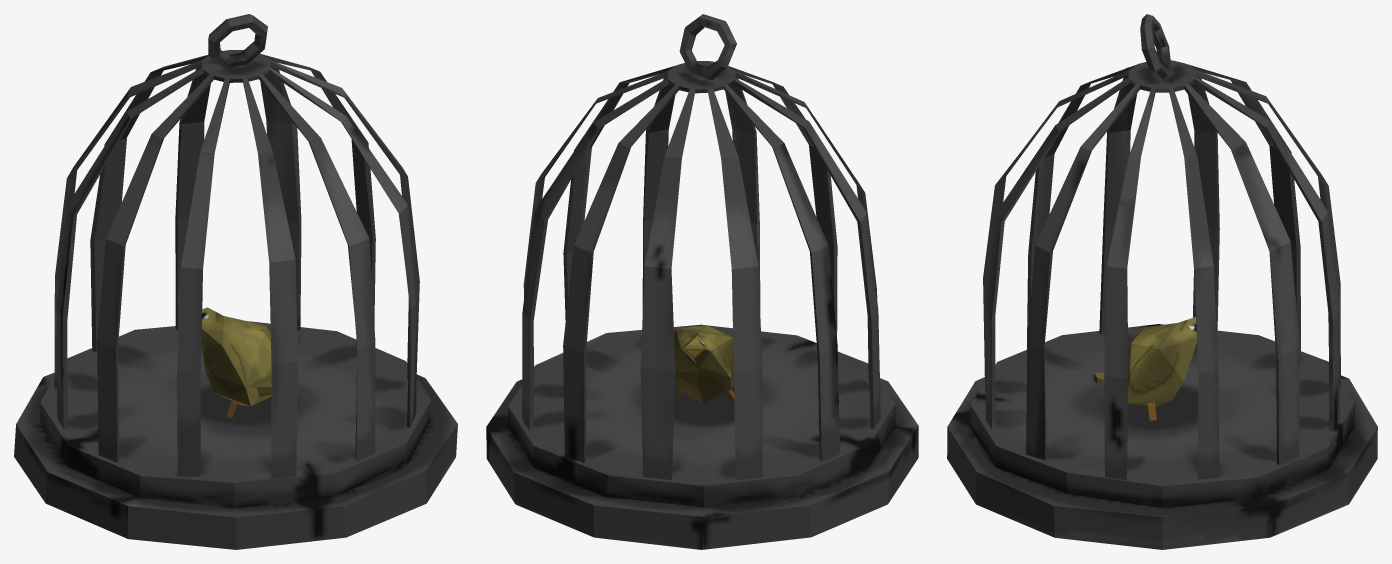
File: Cage.fbx
The picture shows the model from 3 angles, left to right: view 1: azimuth 30°, elevation 25°; view 2: azimuth 150°, elevation 25°; view 3: azimuth 270°, elevation 25°; orthographic projection. The views are drawn at different scales.
Parts seen in each view (by area): view 1: Cage, Bird; view 2: Cage, Bird; view 3: Cage, Bird.
Boxes of the visible parts, left/top/right/bottom form: Cage: left=14, top=14, right=457, bottom=549; Bird: left=201, top=307, right=271, bottom=417; Cage: left=486, top=14, right=918, bottom=549; Bird: left=674, top=326, right=734, bottom=402; Cage: left=947, top=14, right=1377, bottom=549; Bird: left=1093, top=317, right=1217, bottom=420.
Size of the model in its own units: 0.4021 by 0.4505 by 0.4018.
